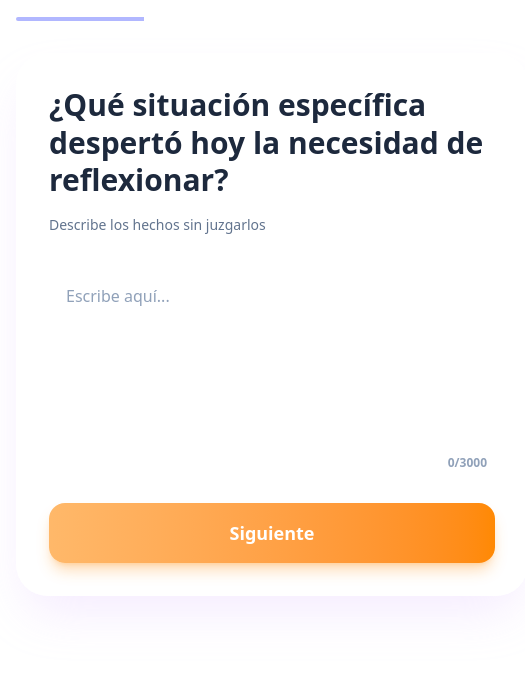
Scenario: NewSessionPage › blocks step 2 when the thought is too short
The width and height of the screenshot is (525, 681).
In the text box with placeholder "Escribe aquí...": (272, 356) left=49, top=266, right=495, bottom=446, type "I argued with my manager."
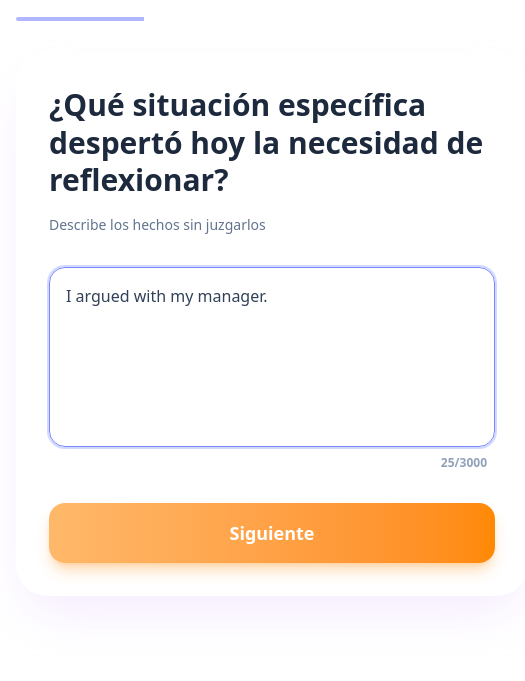
Click the button "Siguiente": (272, 532) left=49, top=502, right=495, bottom=562
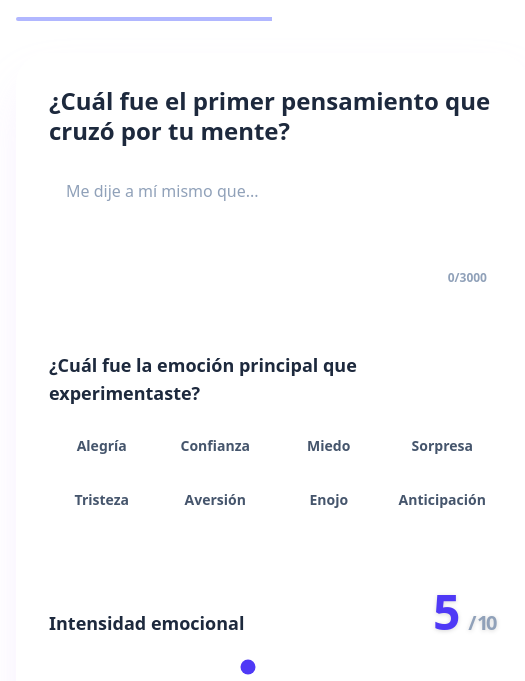
Now the heading "¿Cuál fue el primer pensamiento que cruzó por tu mente?" is shown, box left=49, top=86, right=495, bottom=146
In the text box with placeholder "Me dije a mí mismo que...": (272, 212) left=49, top=162, right=495, bottom=262, type "no"
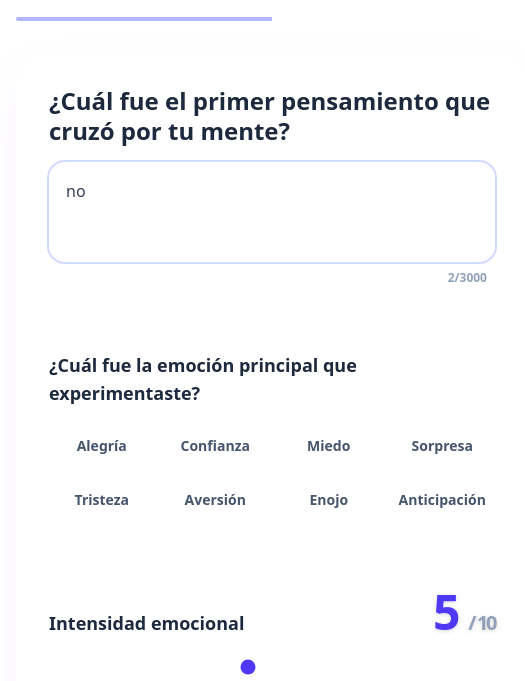
Click the button "Enojo": (329, 500) left=276, top=477, right=382, bottom=523
(page scrolled)
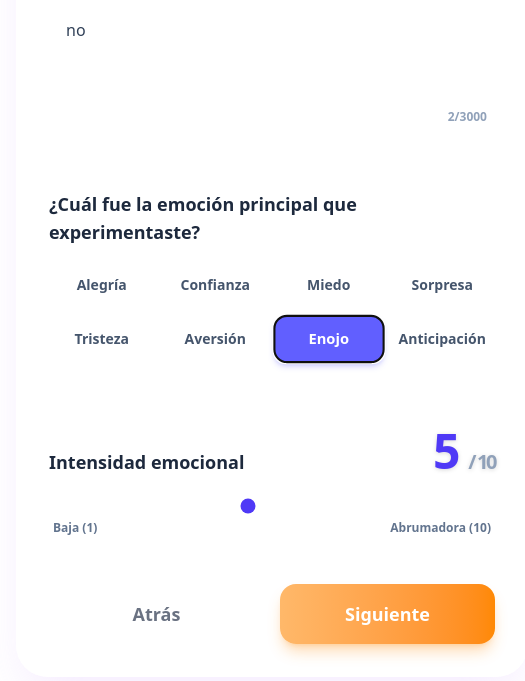
Click the button "Siguiente": (388, 614) left=280, top=584, right=495, bottom=644
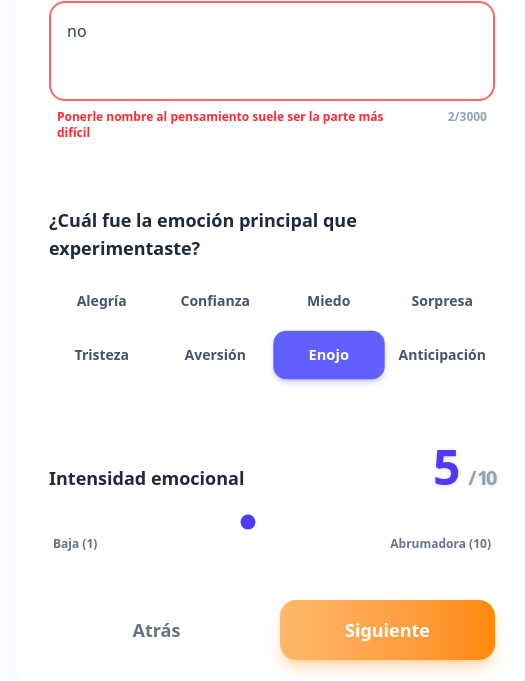
Now the text "Ponerle nombre al pensamiento suele ser la parte más difícil" is shown, box left=57, top=109, right=401, bottom=141
